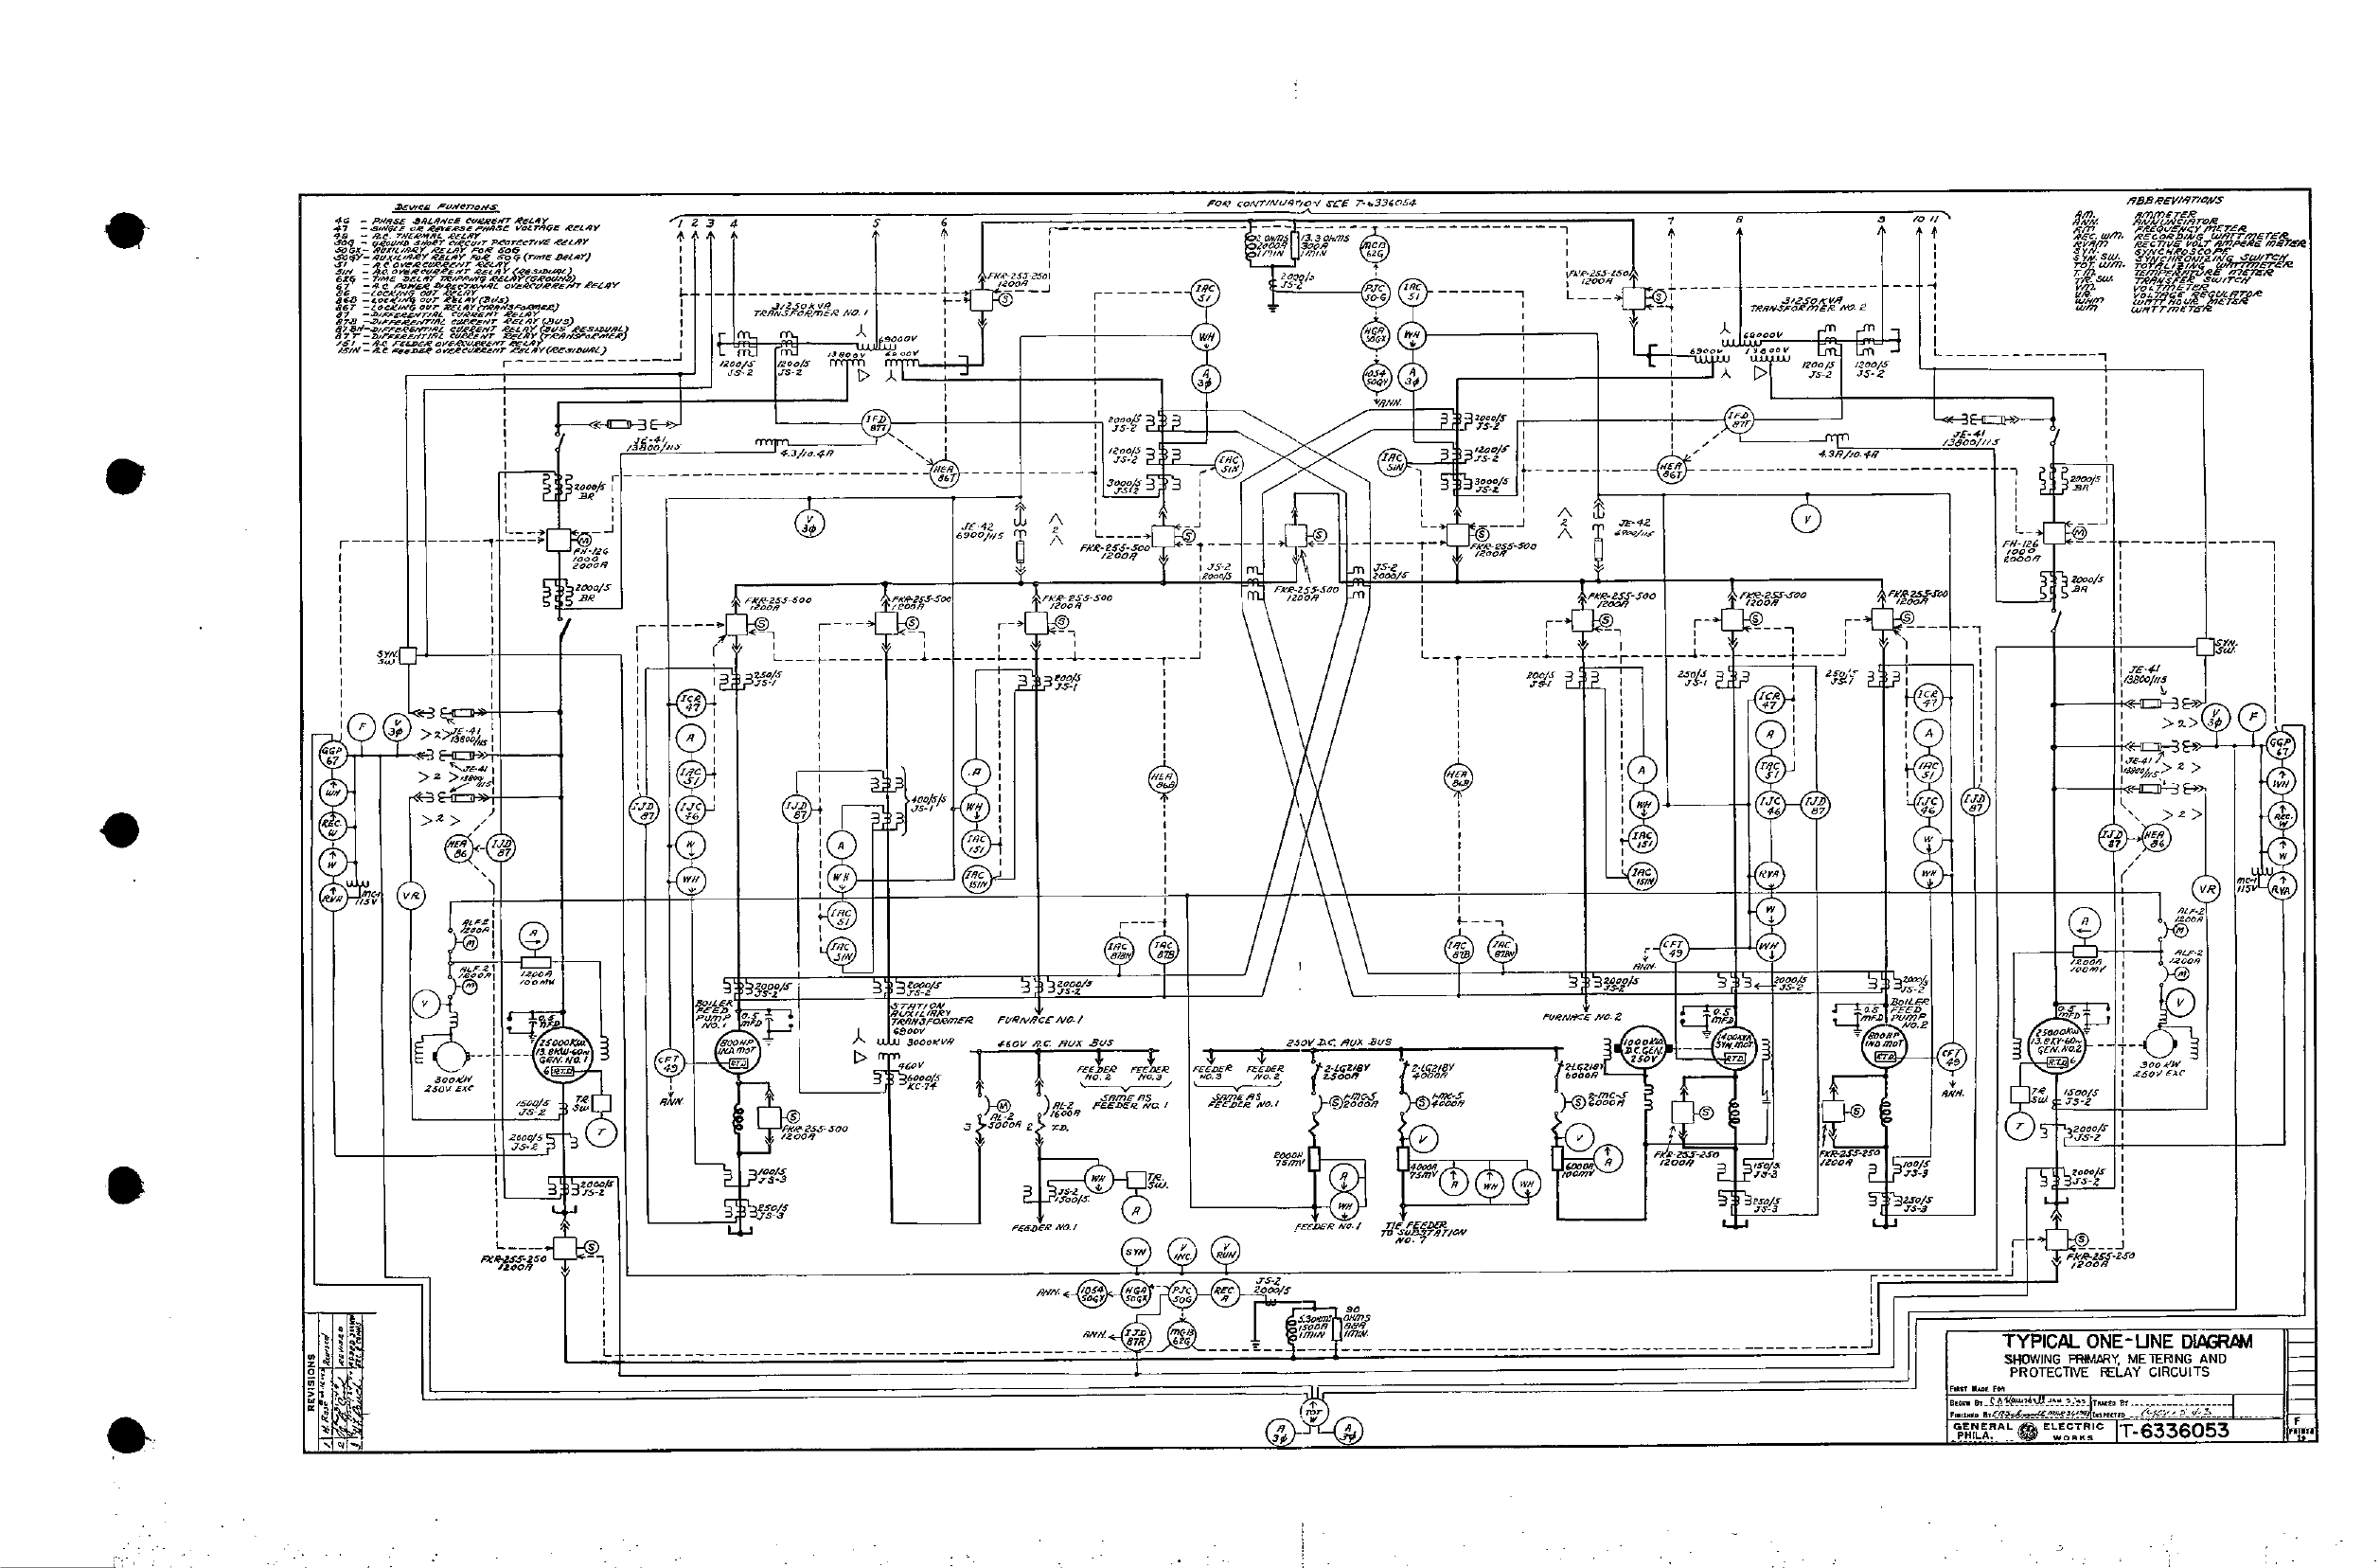circuit_breaker: (1021, 1078, 1057, 1145), (967, 1086, 1004, 1147), (1303, 1080, 1332, 1132), (1551, 1082, 1569, 1136), (1393, 1085, 1412, 1134), (439, 915, 461, 953), (2152, 909, 2170, 944), (440, 971, 460, 1000), (2155, 957, 2173, 989)
fuse: (1323, 1310, 1353, 1351), (1283, 223, 1308, 268), (602, 408, 637, 439), (1001, 537, 1038, 564), (445, 697, 476, 728), (1583, 531, 1610, 564), (1979, 408, 2019, 429), (2132, 776, 2165, 801), (2132, 737, 2165, 757), (2135, 694, 2165, 712), (448, 790, 483, 805), (449, 747, 481, 763), (757, 1035, 782, 1046)
ground: (1242, 1329, 1268, 1354), (1698, 1028, 1714, 1042), (1851, 1024, 1863, 1039), (2081, 1028, 2093, 1035)
switch: (545, 612, 582, 648), (2044, 602, 2071, 637), (1304, 1056, 1331, 1086), (1392, 1054, 1413, 1077), (1549, 1052, 1568, 1078)
transformer: (1678, 314, 1797, 383), (818, 336, 923, 374), (847, 1027, 906, 1066), (744, 430, 799, 449), (1813, 427, 1855, 444), (2244, 862, 2280, 881), (633, 413, 665, 435), (420, 700, 451, 722), (1587, 508, 1612, 532), (2166, 780, 2197, 798), (418, 787, 447, 806), (343, 873, 370, 892), (1956, 410, 1981, 429), (2167, 737, 2194, 755), (1008, 513, 1030, 535), (424, 748, 450, 763), (2168, 693, 2194, 708)
